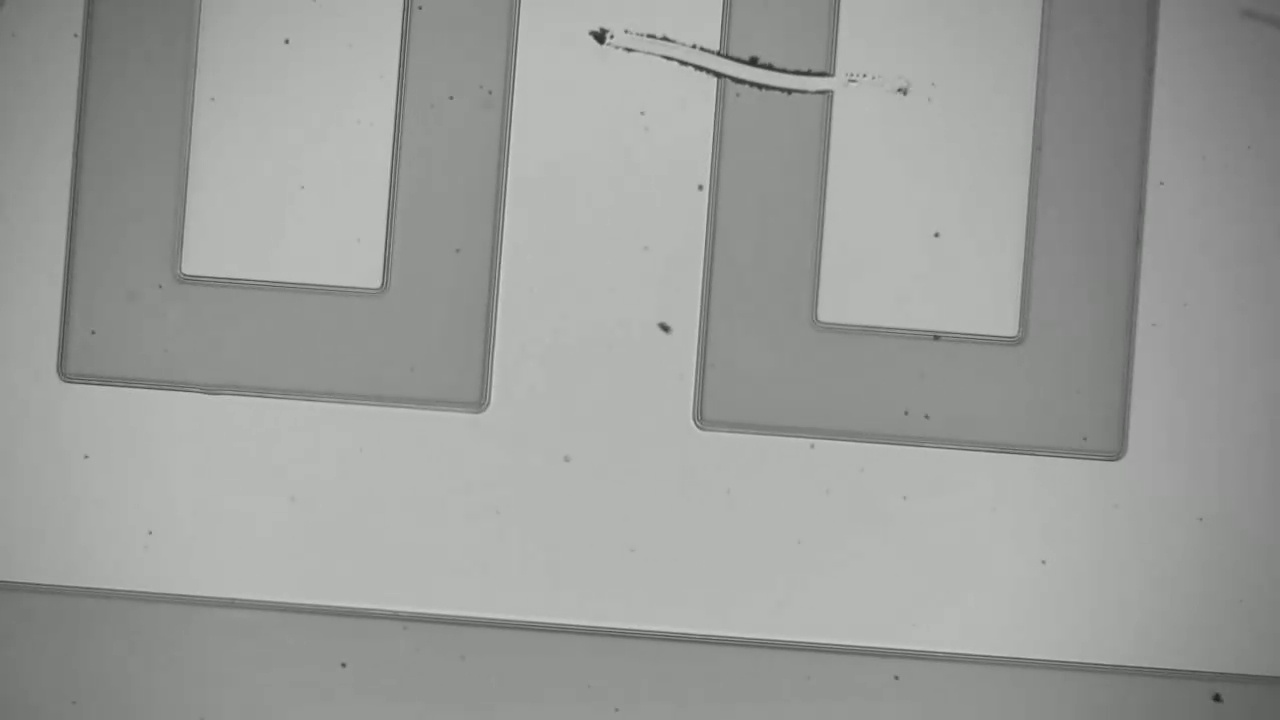Short_circuit: (687, 38, 860, 115)
